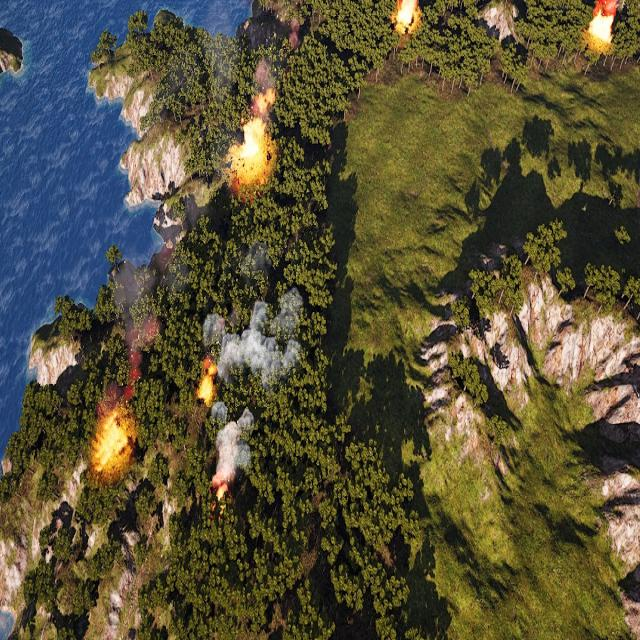fire: (235, 85, 276, 179), (95, 414, 129, 468), (588, 1, 616, 45), (208, 474, 231, 513), (198, 362, 216, 406), (392, 0, 418, 28)
smoke: (204, 285, 308, 382), (112, 248, 170, 392), (213, 404, 257, 483), (250, 60, 276, 126)
